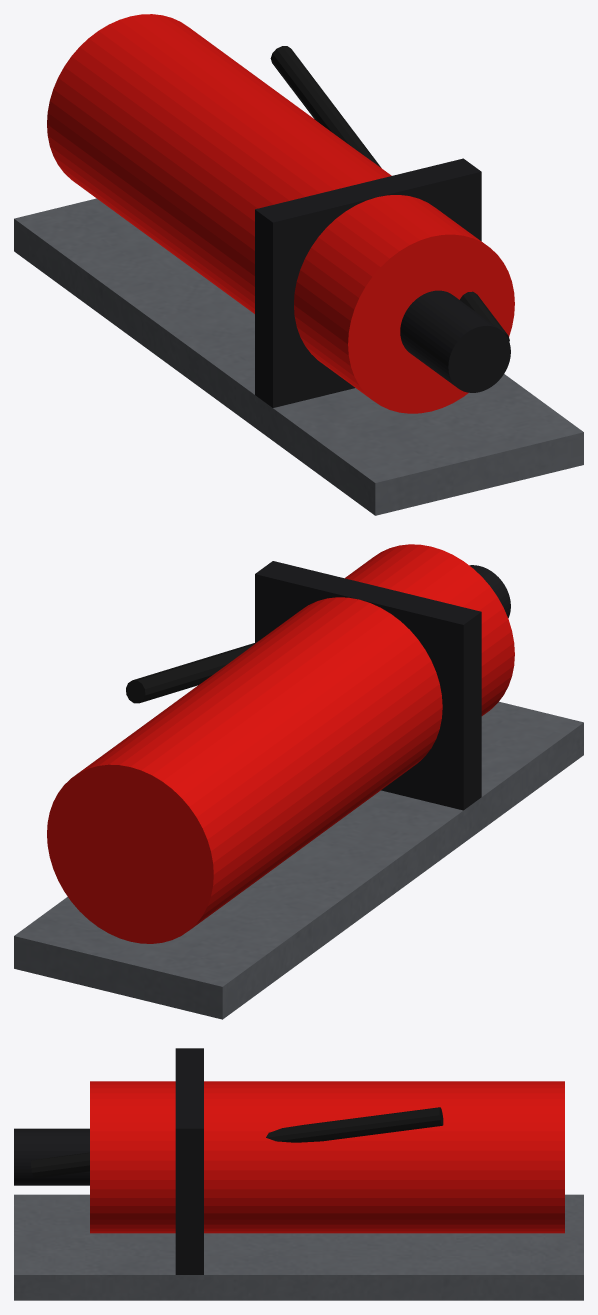
Rendered from extinguisher_present.glb.
3 renders of one model, top to bottom at view 1: azimuth 30°, elevation 25°; view 2: azimuth 150°, elevation 25°; view 3: azimuth 270°, elevation 25°, orthographic. The views are drawn at different scales.
Visible parts, largest first — view 1: extinguisher_present; view 2: extinguisher_present; view 3: extinguisher_present.
Part boxes in pixels (x1,y1,x2,y2): extinguisher_present: (14, 14, 583, 515); extinguisher_present: (14, 544, 583, 1019); extinguisher_present: (14, 1048, 583, 1300).
Bounding box in the file's own units: 0.2 × 0.2098 × 0.6.
4 materials, 1 textured.
